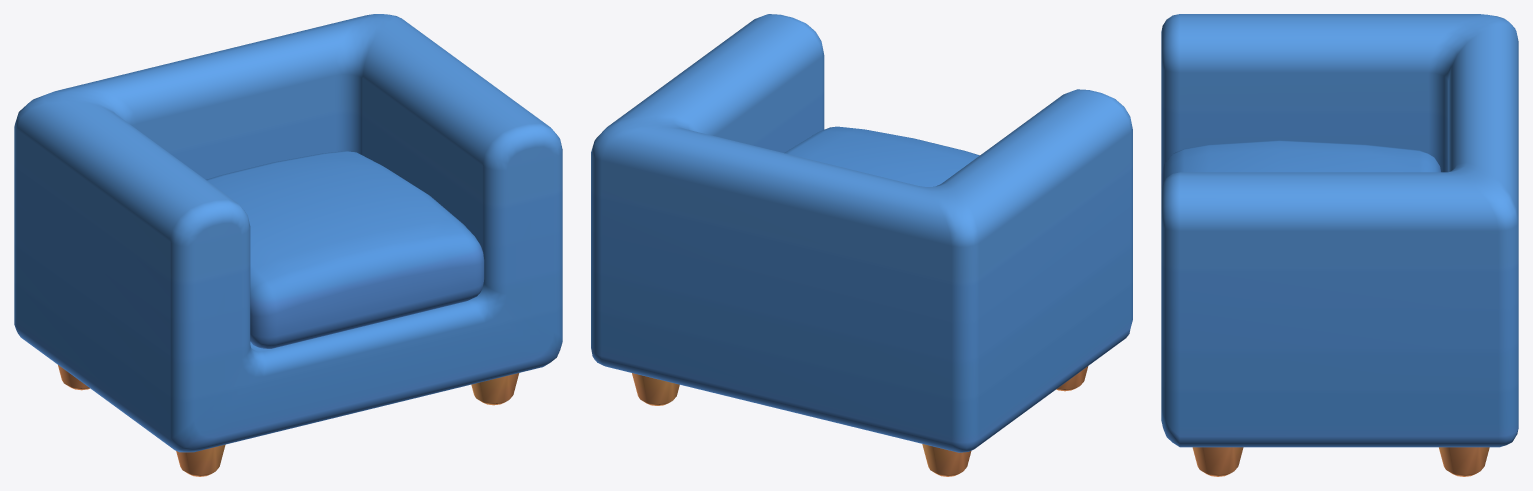
The model's file is Armchair_02.glb.
The picture shows the model from 3 angles, left to right: view 1: azimuth 30°, elevation 25°; view 2: azimuth 150°, elevation 25°; view 3: azimuth 270°, elevation 25°; orthographic projection. The views are drawn at different scales.
Visible parts, largest first — view 1: Armchair_02; view 2: Armchair_02; view 3: Armchair_02.
Boxes of the visible parts, x1,y1,x2,y2 form: Armchair_02: [14, 14, 562, 476]; Armchair_02: [591, 14, 1132, 476]; Armchair_02: [1161, 14, 1518, 476].
Size of the model in its own units: 1 by 0.7 by 0.765.
Materials: 1 (1 with a texture image).
